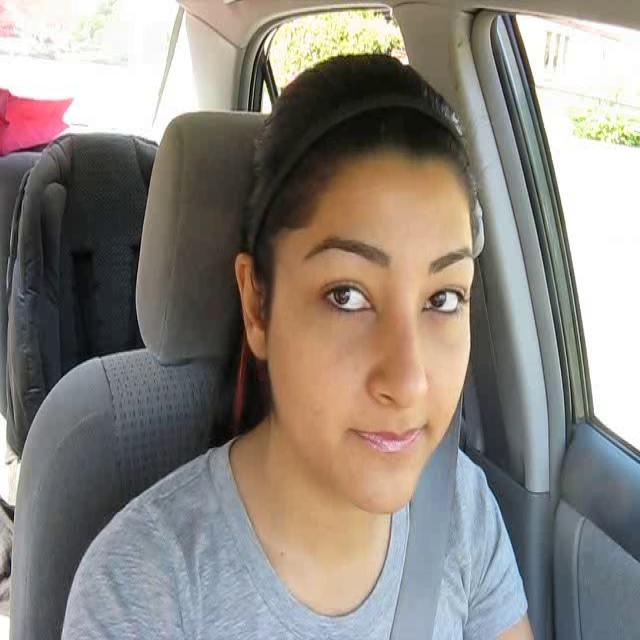close: (339, 420, 433, 457)
